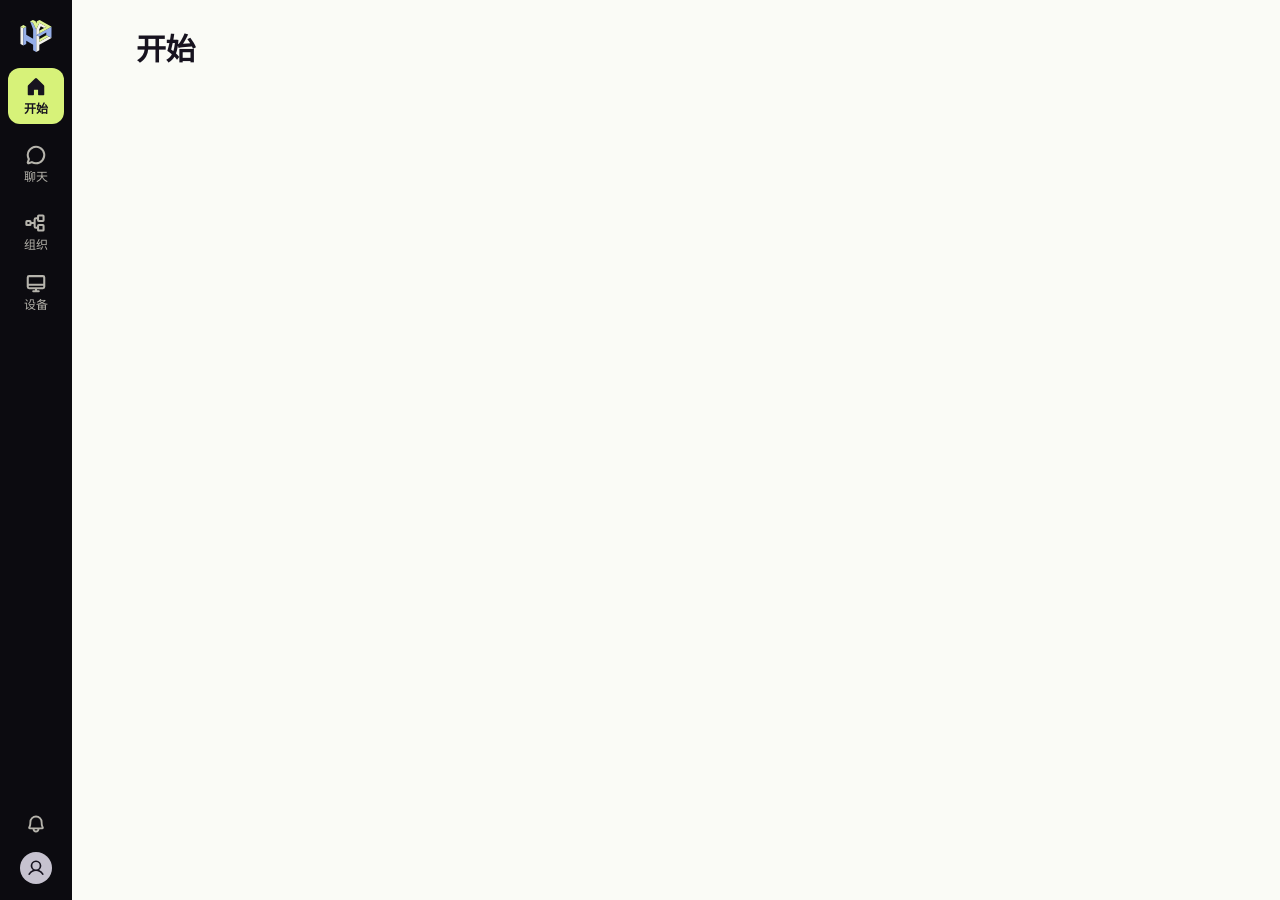
Test: shared organization workspace through product routes › retains invalid input and does not claim creation success
The width and height of the screenshot is (1280, 900).
Click the button "组织". click: (36, 232)
box: [8,204,64,260]
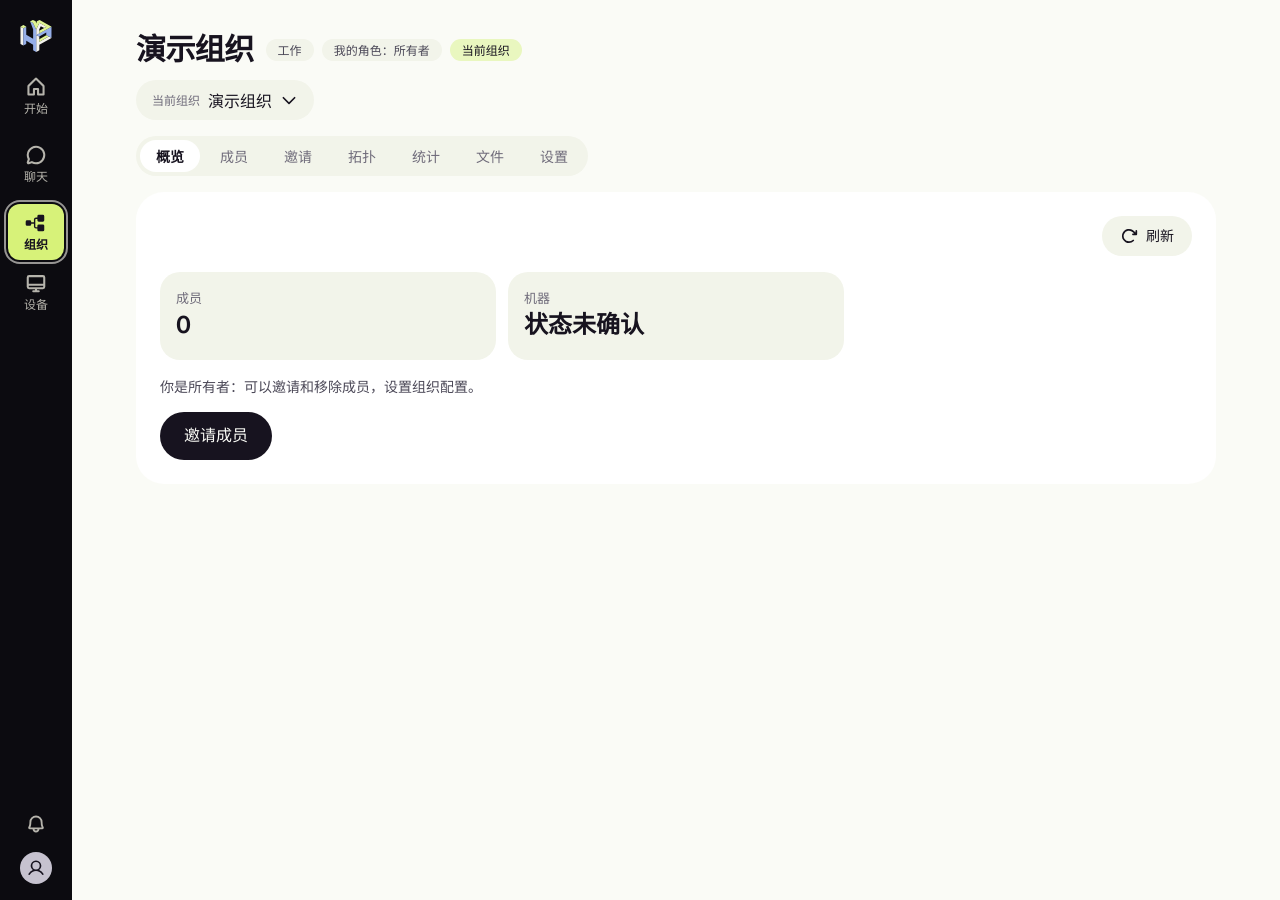
Click the button with aria-label "组织切换". click: (225, 100)
box: [136,80,314,120]
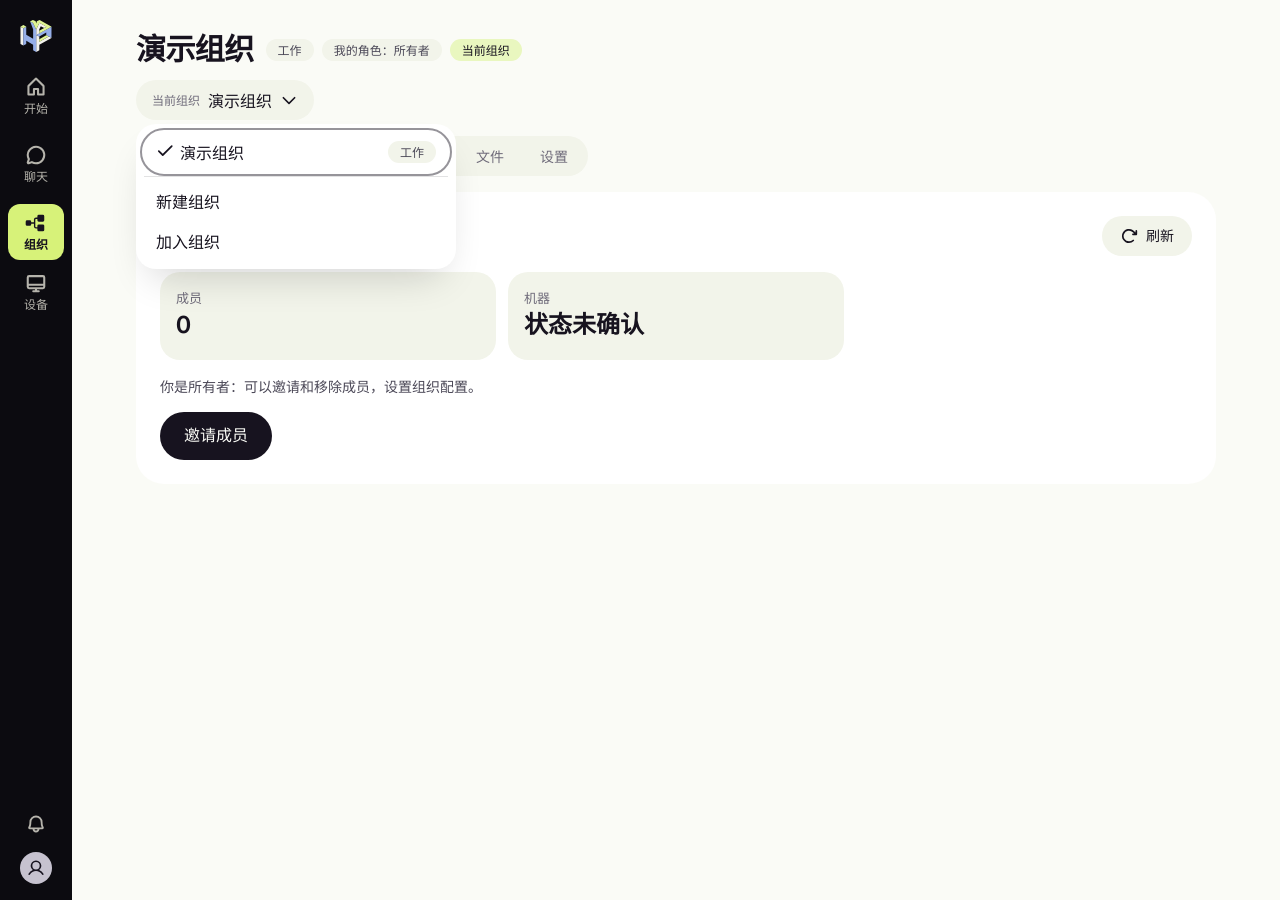
Click the menu item "新建组织". click: (188, 202)
box: [144,181,448,221]
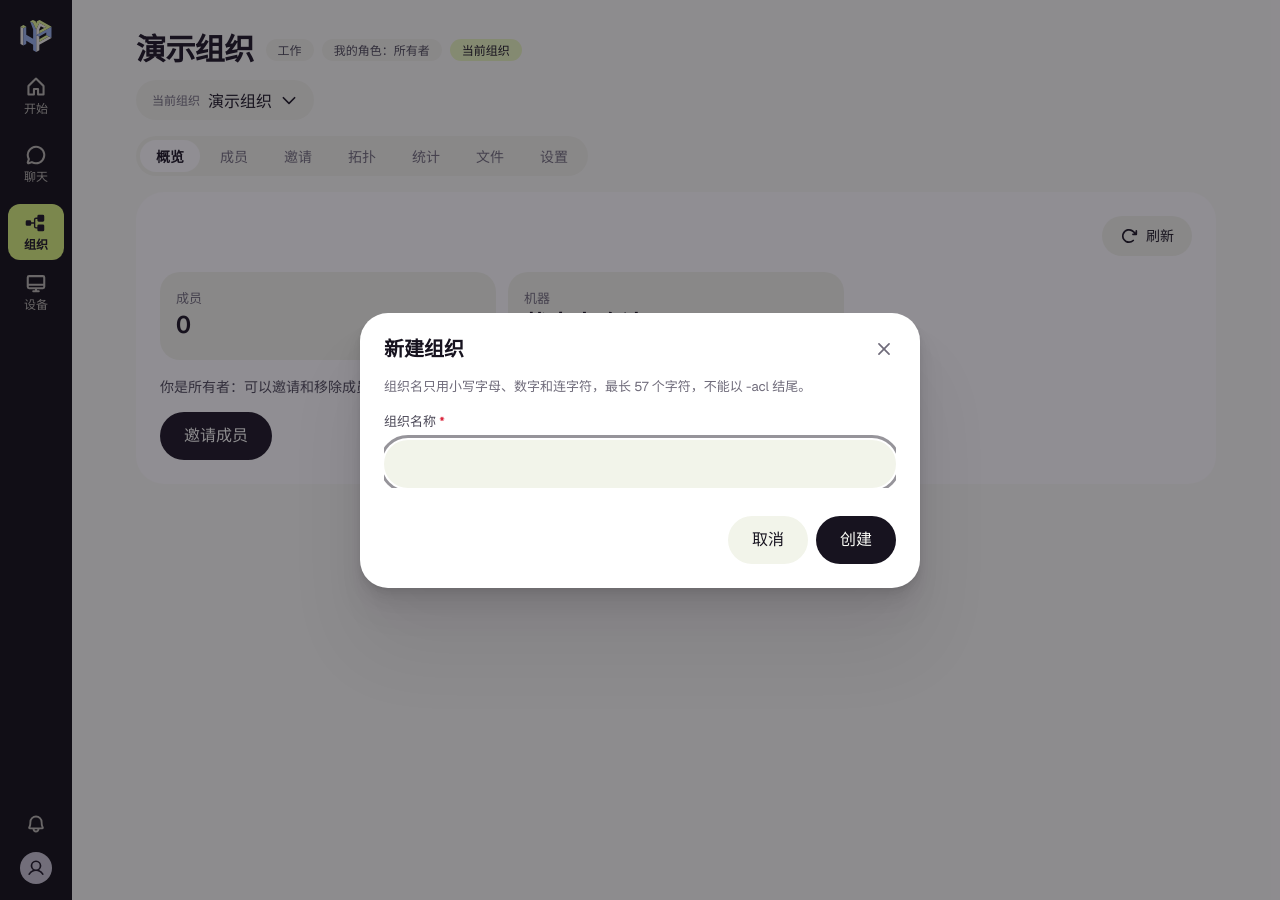
Click the button "创建". click: (856, 540)
box: [816,516,896,564]
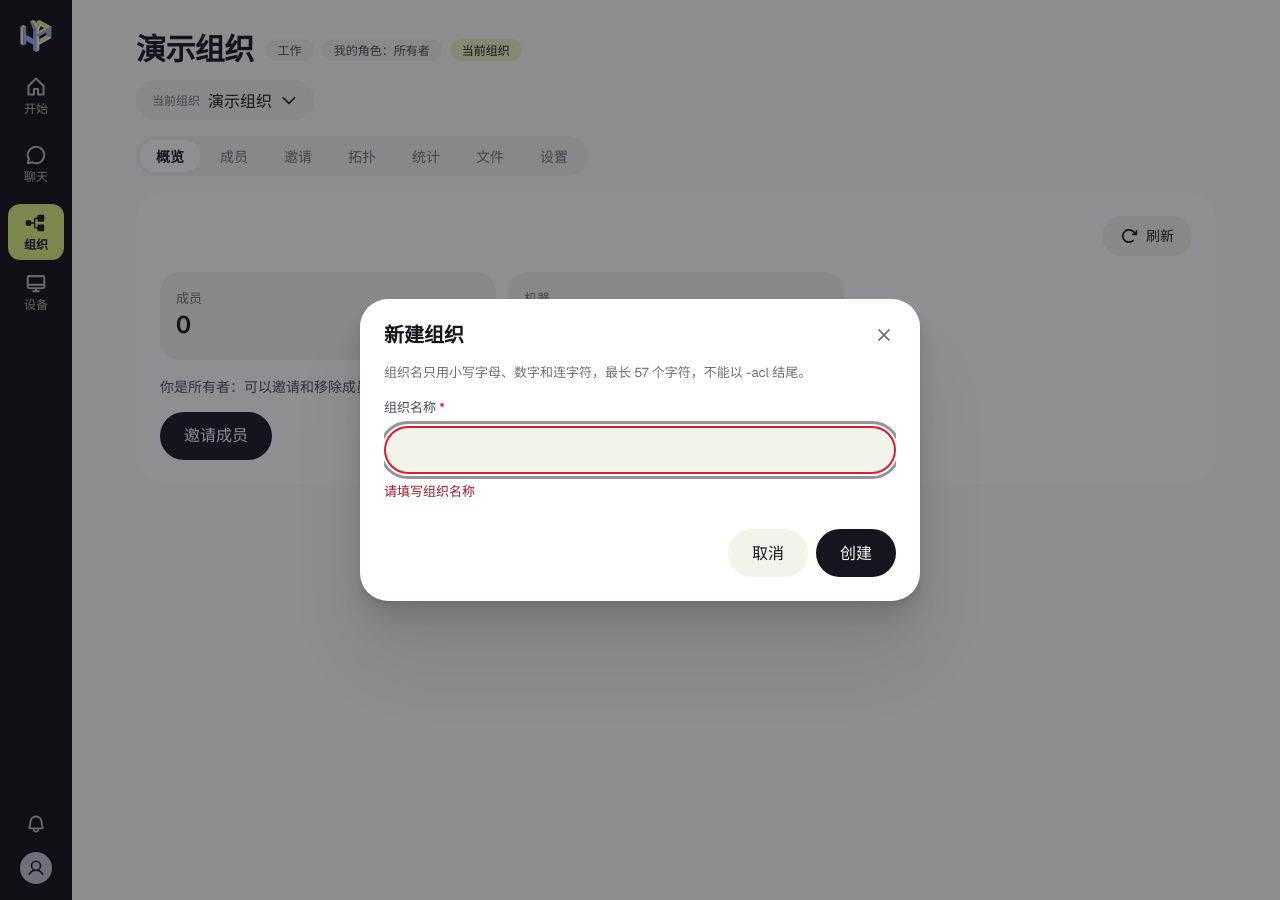
expect the text "请填写组织名称" is shown: met, box [384,483,475,500]
Type "design-team" into the field labelled "组织名称 *". click: (640, 450)
box: [384,426,896,474]
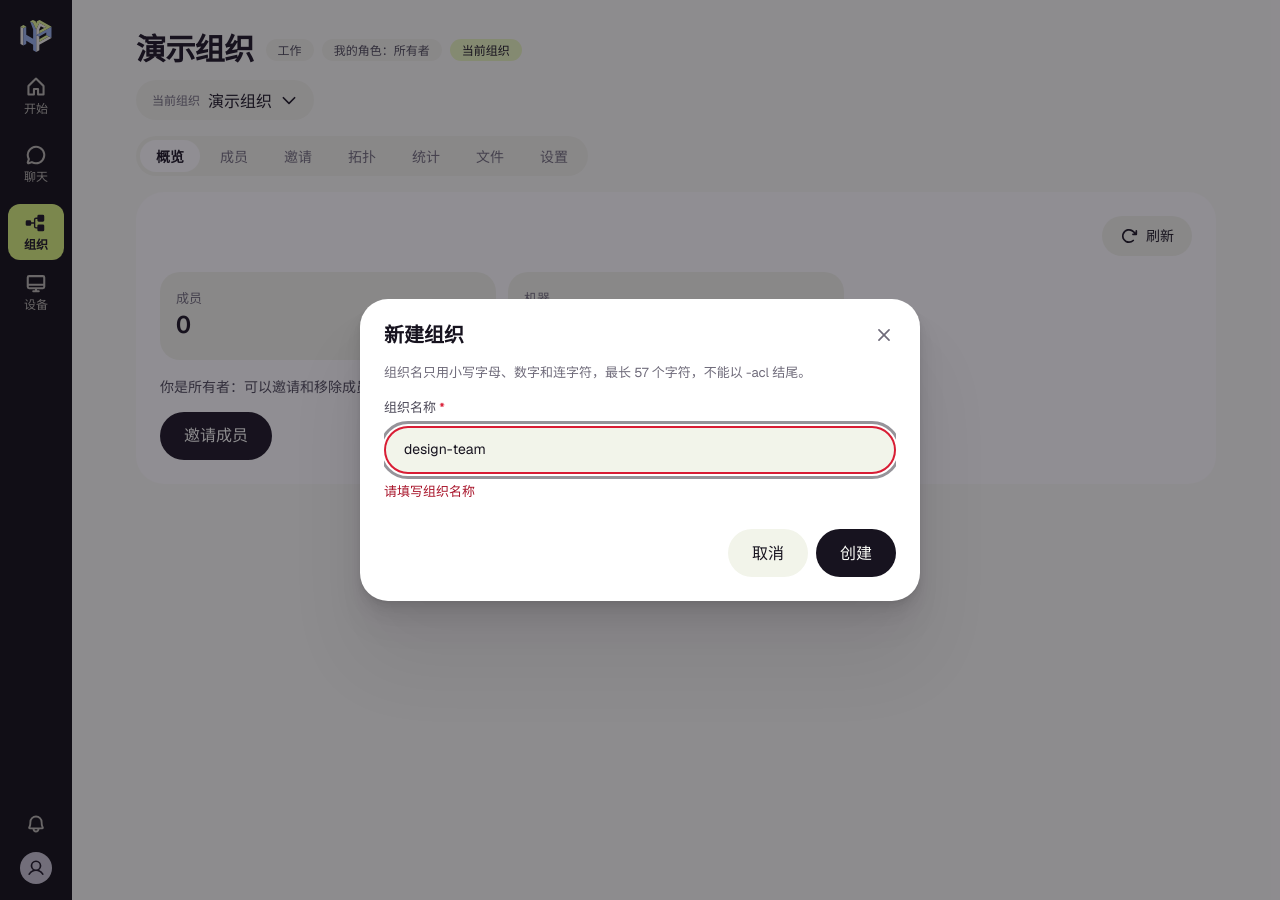
Click the button "创建". click: (856, 553)
box: [816,529,896,577]
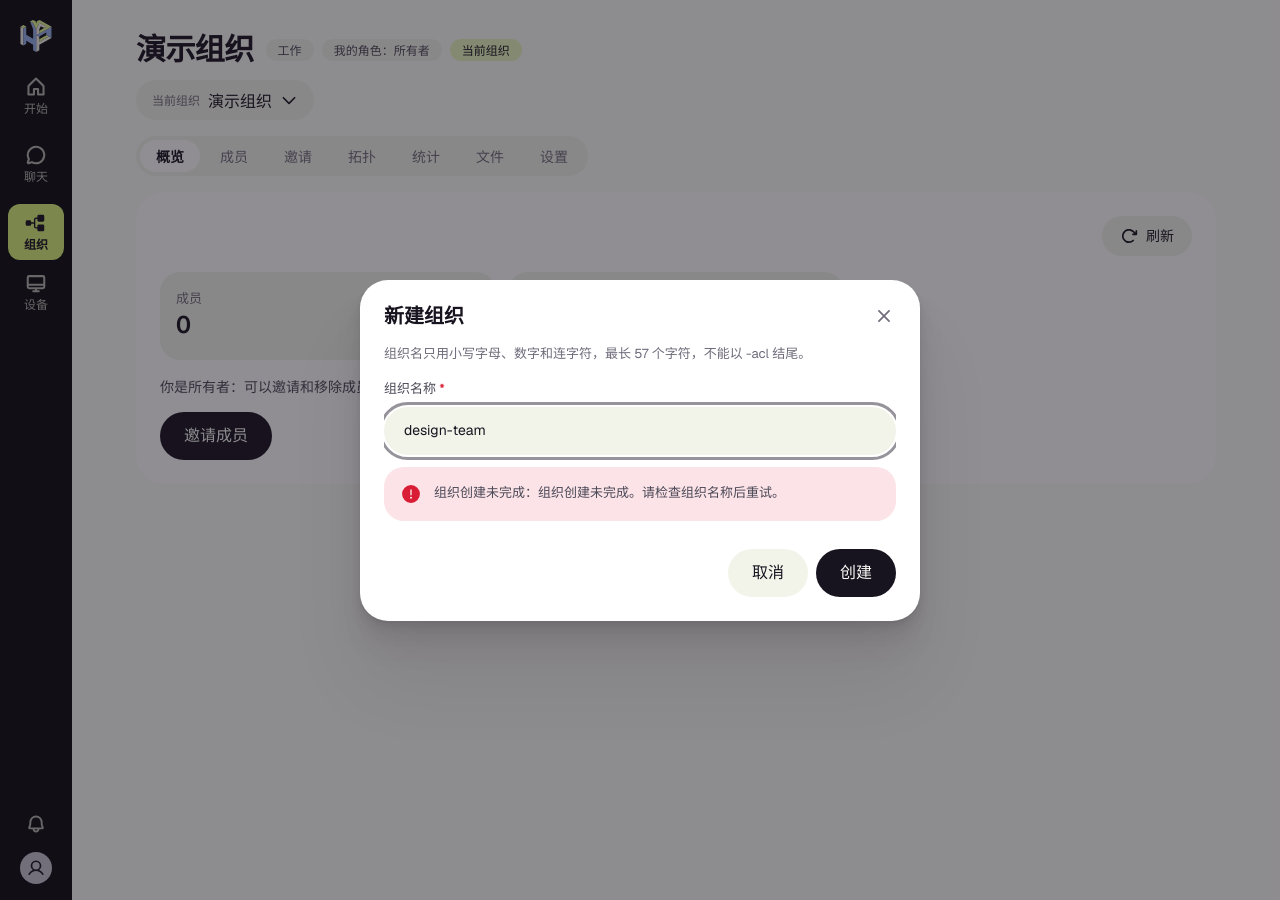
expect the text "组织创建未完成：组织创建未完成。请检查组织名称后重试。" is shown: met, box [434,484,785,500]
